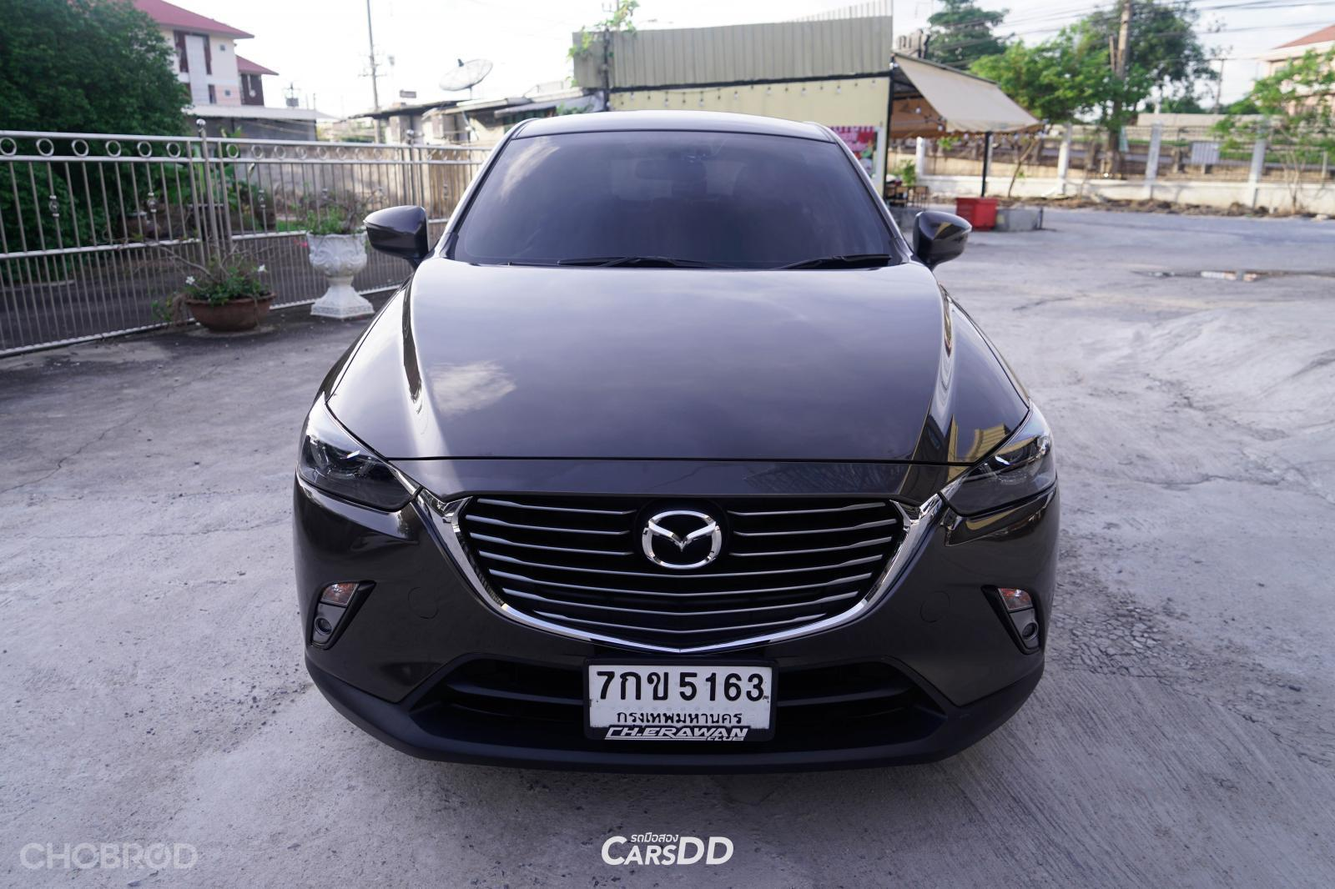license-plate: (576, 649, 789, 768)
